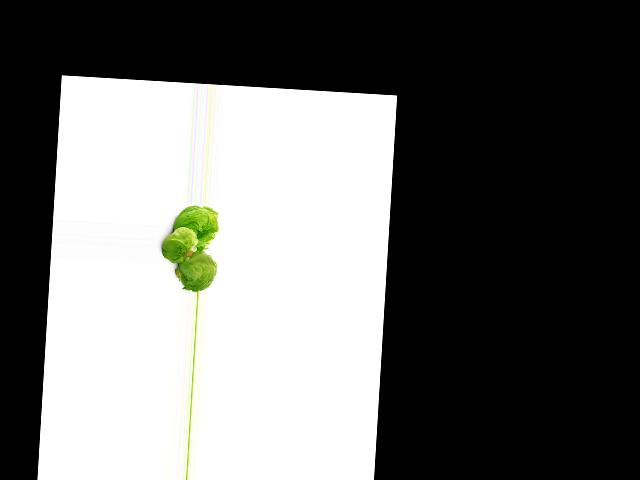lettuce: (175, 206, 217, 245)
